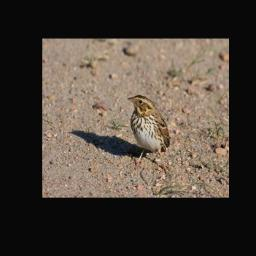Sparrow: (125, 93, 171, 175)
